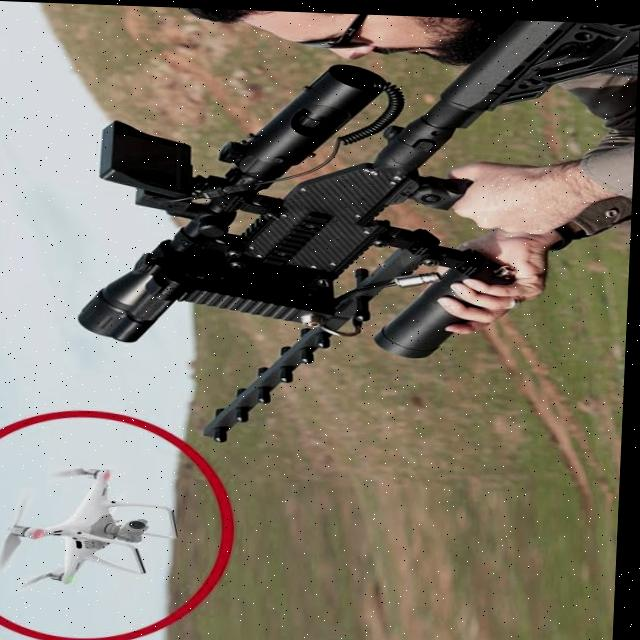drone: (0, 442, 186, 596)
